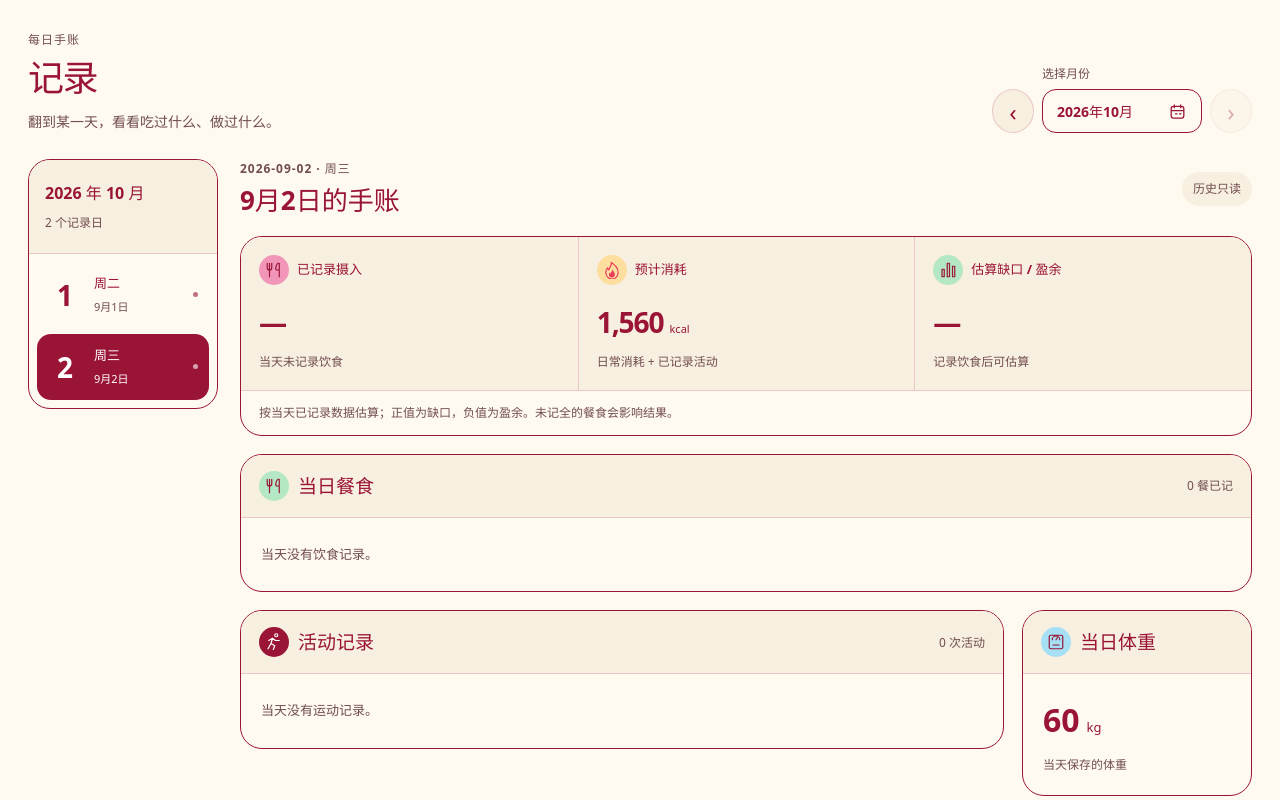
history request ordering › navigates months and stops at the current month
Click the button named "上个月" at (1013, 111), box top-left (992, 89), bottom-right (1034, 133)
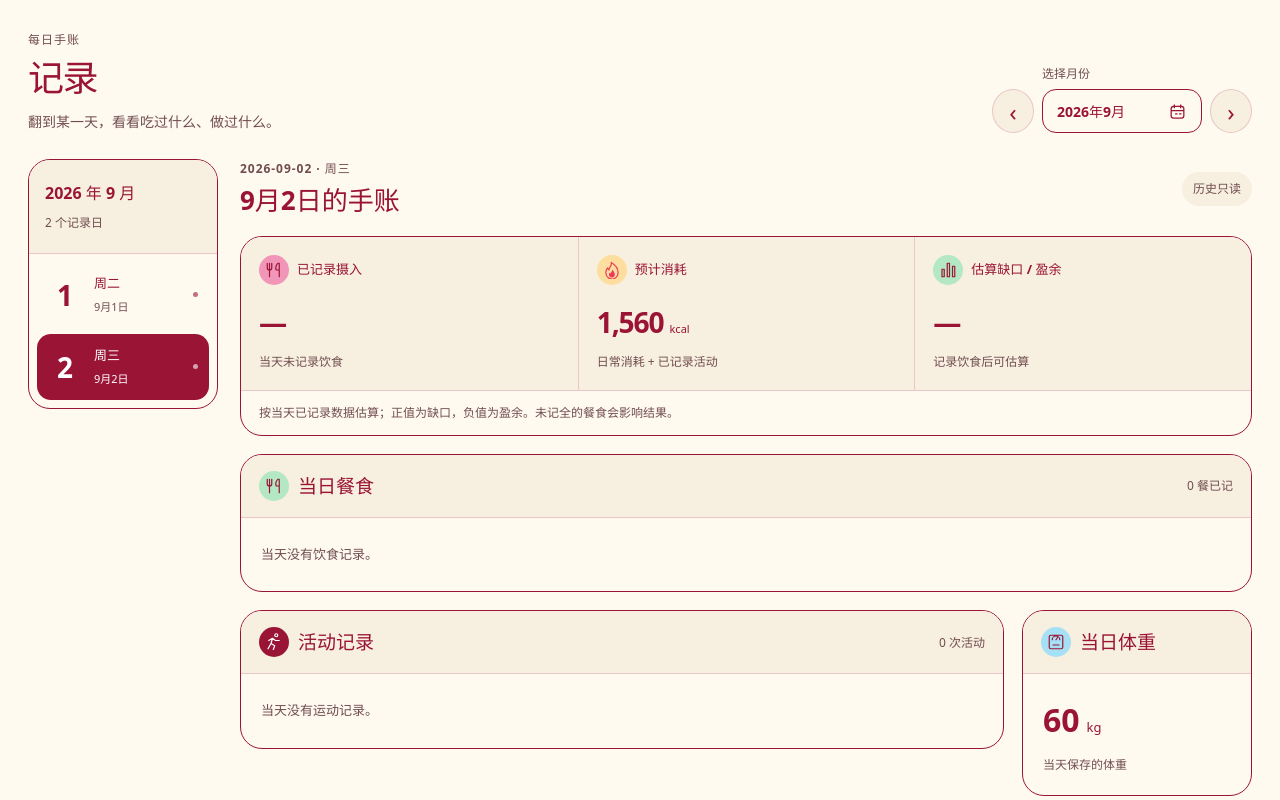
Click the button named "下个月" at (1231, 111), box top-left (1210, 89), bottom-right (1252, 133)
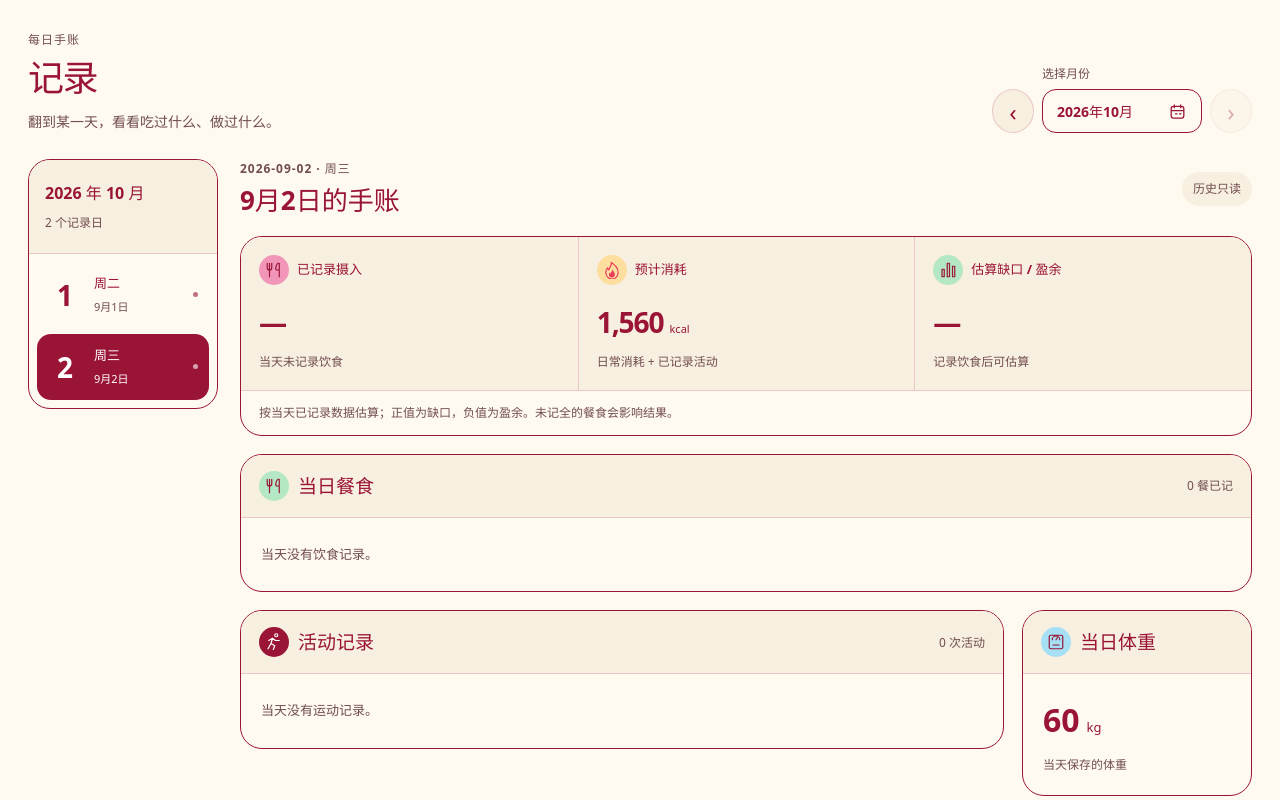
expect the button named "下个月" is disabled: met, box top-left (1210, 89), bottom-right (1252, 133)
